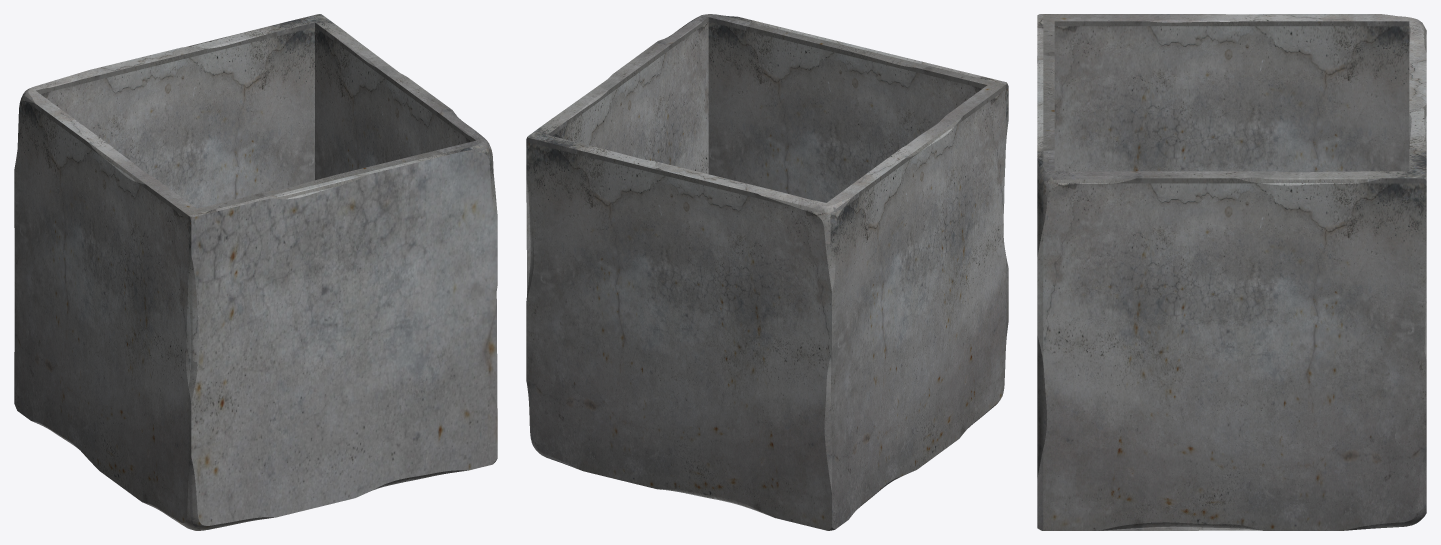
Rendered from Bet_korobka-3.fbx.
The picture shows the model from 3 angles, left to right: view 1: azimuth 30°, elevation 25°; view 2: azimuth 150°, elevation 25°; view 3: azimuth 270°, elevation 25°; orthographic projection. The views are drawn at different scales.
Visible parts, largest first — view 1: Cube.001_dmg; view 2: Cube.001_dmg; view 3: Cube.001_dmg.
Part boxes in pixels (<box>): Cube.001_dmg: <box>14,14,497,530</box>; Cube.001_dmg: <box>526,14,1008,530</box>; Cube.001_dmg: <box>1037,14,1426,530</box>.
Bounding box in the file's own units: 139 × 139 × 139.
